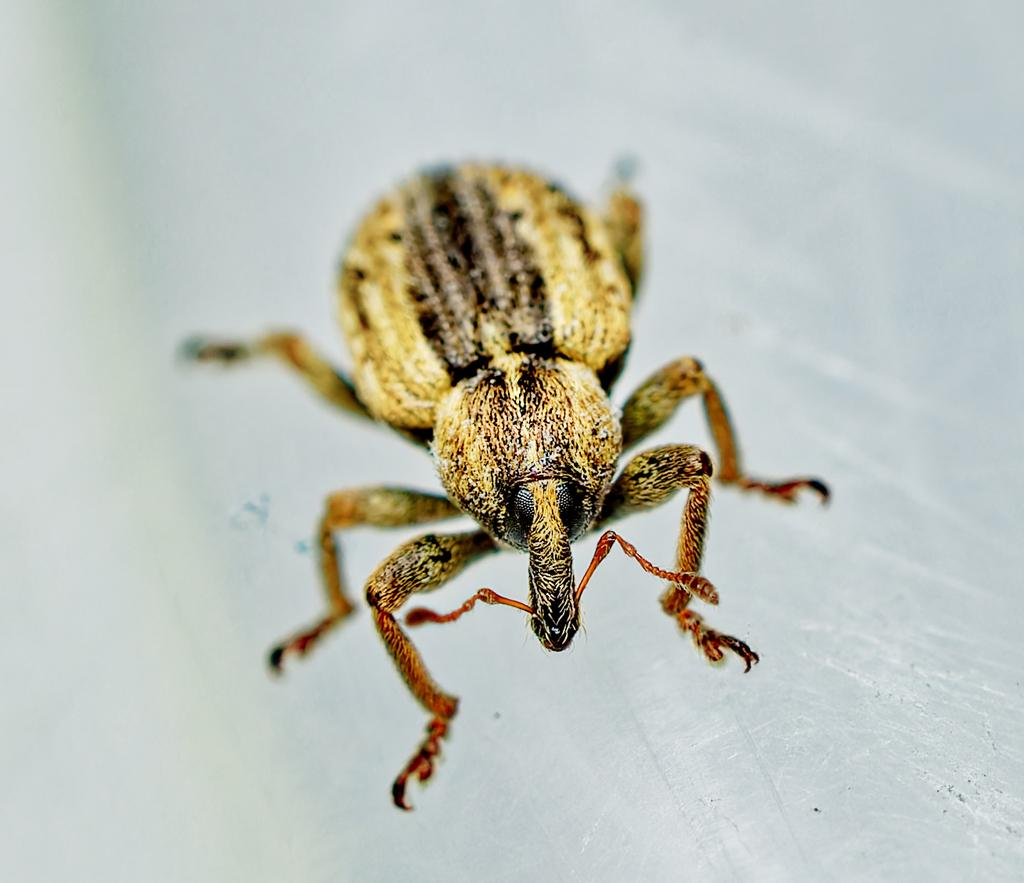weevils: (108, 83, 924, 876)
